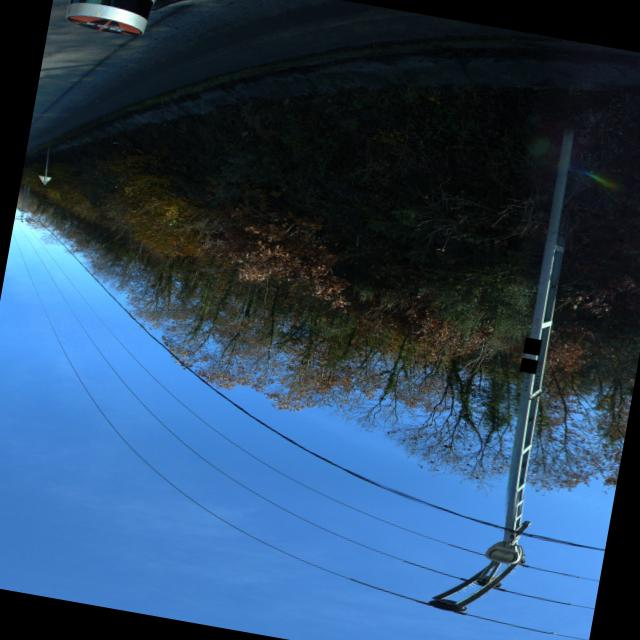Utility Pole Information Plate: (522, 336, 540, 354), (519, 356, 535, 373)
